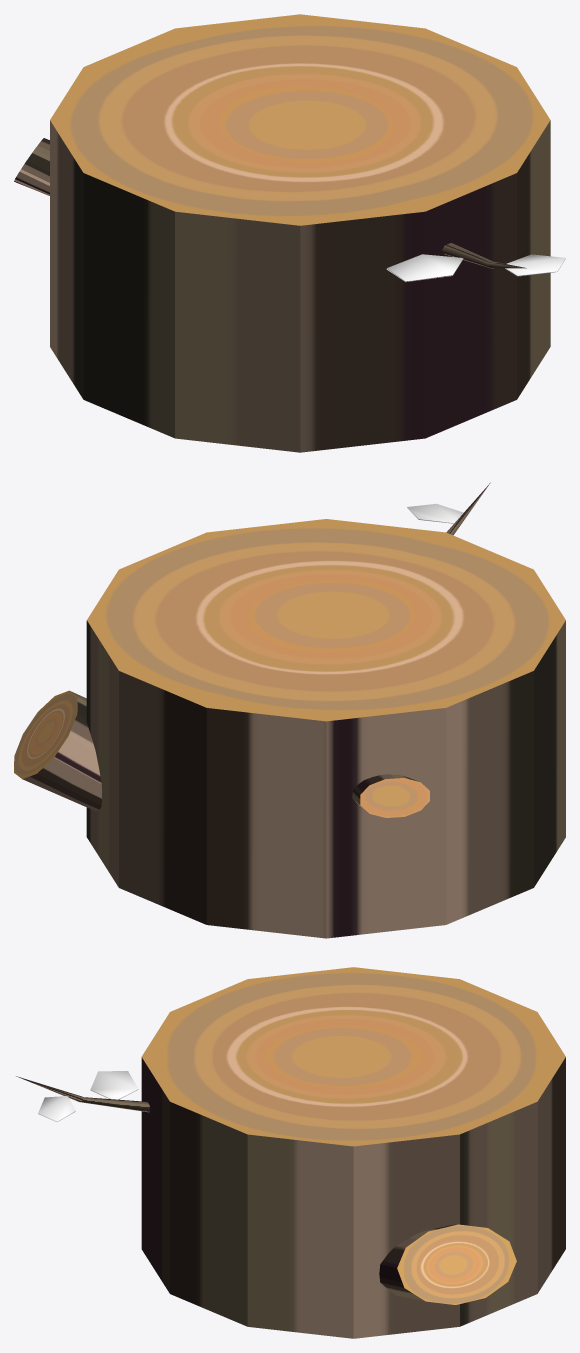
Rendered from log_2x1.obj.
The picture shows the model from 3 angles, top to bottom: view 1: azimuth 30°, elevation 25°; view 2: azimuth 150°, elevation 25°; view 3: azimuth 270°, elevation 25°; orthographic projection. The views are drawn at different scales.
Parts seen in each view (by area): view 1: polySurface4; view 2: polySurface4; view 3: polySurface4.
Boxes of the visible parts, <box> form: polySurface4: <box>14,14,565,452</box>; polySurface4: <box>14,482,565,938</box>; polySurface4: <box>16,967,565,1338</box>.
Bounding box in the file's own units: 227 × 100 × 260.
